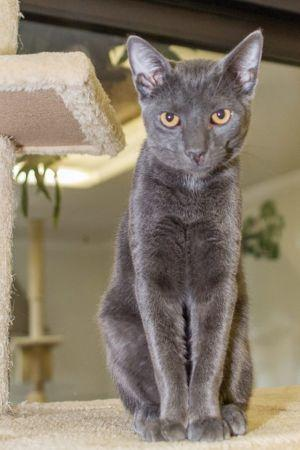rblue: (117, 22, 273, 184)
